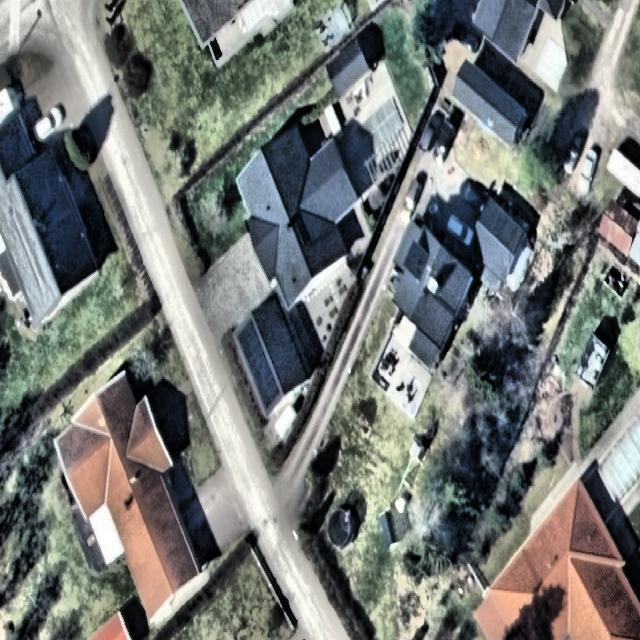roof_pv: (235, 314, 272, 365), (246, 364, 280, 410)
